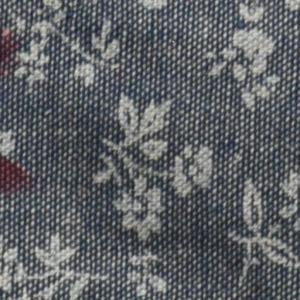Stain: (1, 149, 42, 203), (1, 22, 23, 85)
